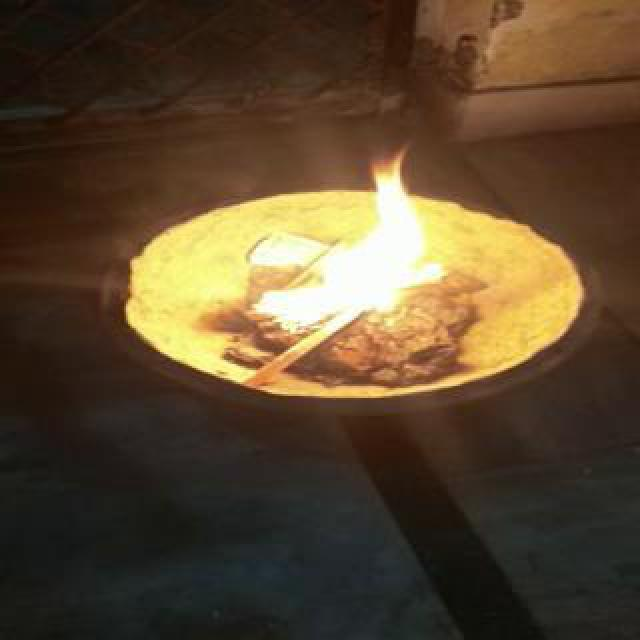Fire: (230, 150, 440, 318)
